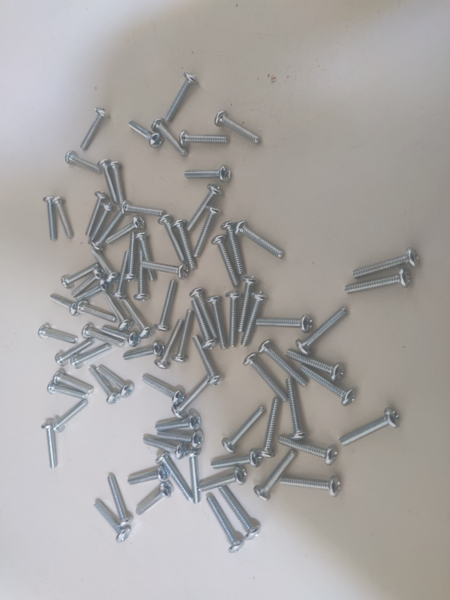longscrew: (295, 309, 352, 353), (294, 365, 356, 402), (340, 409, 400, 447), (259, 339, 305, 386), (220, 489, 259, 541), (206, 498, 242, 554), (285, 348, 348, 377), (353, 251, 421, 277), (343, 270, 411, 296), (215, 108, 264, 144), (224, 406, 264, 450), (258, 453, 297, 498), (244, 358, 285, 400), (281, 469, 341, 497), (279, 437, 339, 465), (236, 224, 286, 257), (167, 72, 199, 123), (160, 454, 193, 502), (221, 218, 247, 277), (261, 397, 285, 460), (103, 475, 132, 527), (93, 500, 128, 542), (286, 373, 308, 439), (192, 336, 221, 386), (189, 299, 218, 349), (239, 290, 264, 348), (150, 121, 189, 158), (186, 189, 221, 230), (192, 206, 218, 261), (189, 286, 218, 335), (171, 378, 208, 416), (213, 235, 239, 289), (118, 296, 153, 336), (254, 311, 314, 334), (151, 280, 176, 334), (154, 216, 183, 262), (171, 306, 194, 363), (89, 211, 123, 248), (155, 319, 181, 367), (174, 215, 196, 271), (142, 374, 184, 403), (137, 484, 171, 519), (104, 216, 144, 245), (126, 118, 163, 149), (198, 470, 247, 493), (80, 109, 108, 149), (206, 297, 227, 350), (90, 367, 119, 405), (100, 365, 134, 397), (102, 292, 130, 330), (53, 369, 94, 394), (55, 402, 85, 436), (99, 158, 119, 208), (211, 451, 263, 470), (71, 268, 103, 298), (87, 203, 111, 243), (55, 340, 93, 365), (70, 345, 111, 368), (83, 325, 124, 348), (155, 413, 201, 433), (101, 324, 141, 347), (139, 259, 190, 277), (223, 291, 239, 348), (83, 192, 104, 235), (122, 339, 163, 361), (240, 277, 257, 330), (141, 439, 186, 459), (158, 429, 203, 449), (87, 251, 117, 281), (113, 246, 130, 298), (53, 195, 73, 238), (39, 322, 76, 345), (79, 301, 117, 323), (44, 293, 82, 315), (180, 131, 230, 147), (139, 229, 154, 282), (61, 265, 97, 287), (41, 420, 56, 471), (42, 192, 57, 243), (124, 200, 166, 218), (130, 467, 169, 486), (184, 166, 233, 181), (126, 232, 140, 283), (72, 279, 109, 298), (67, 149, 100, 169), (189, 450, 201, 504), (48, 386, 87, 401), (110, 153, 122, 199), (136, 250, 146, 303)
